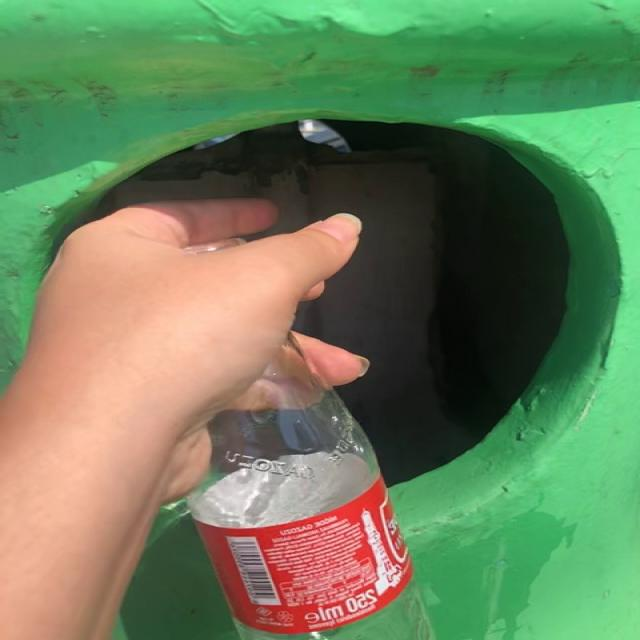glass: (188, 337, 432, 640)
